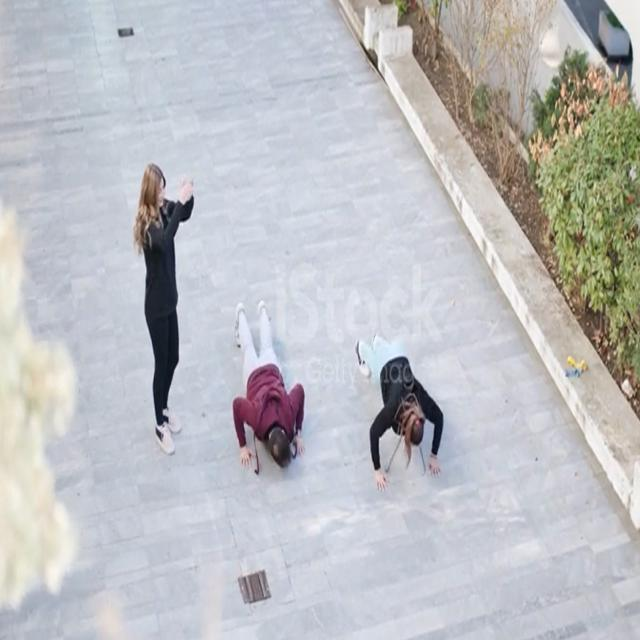fallen: (356, 333, 443, 489), (232, 301, 304, 468)
standing: (134, 164, 193, 454)
